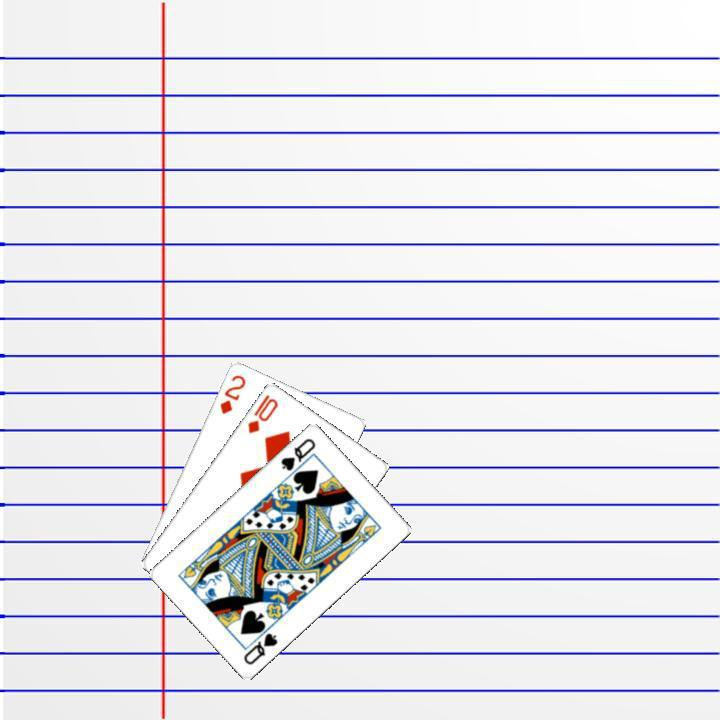10: (243, 390, 280, 435)
2: (215, 370, 247, 416)
Q: (276, 433, 318, 473), (239, 628, 280, 666)
